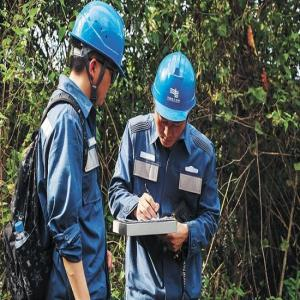blue: (72, 2, 127, 107), (151, 49, 197, 150)
